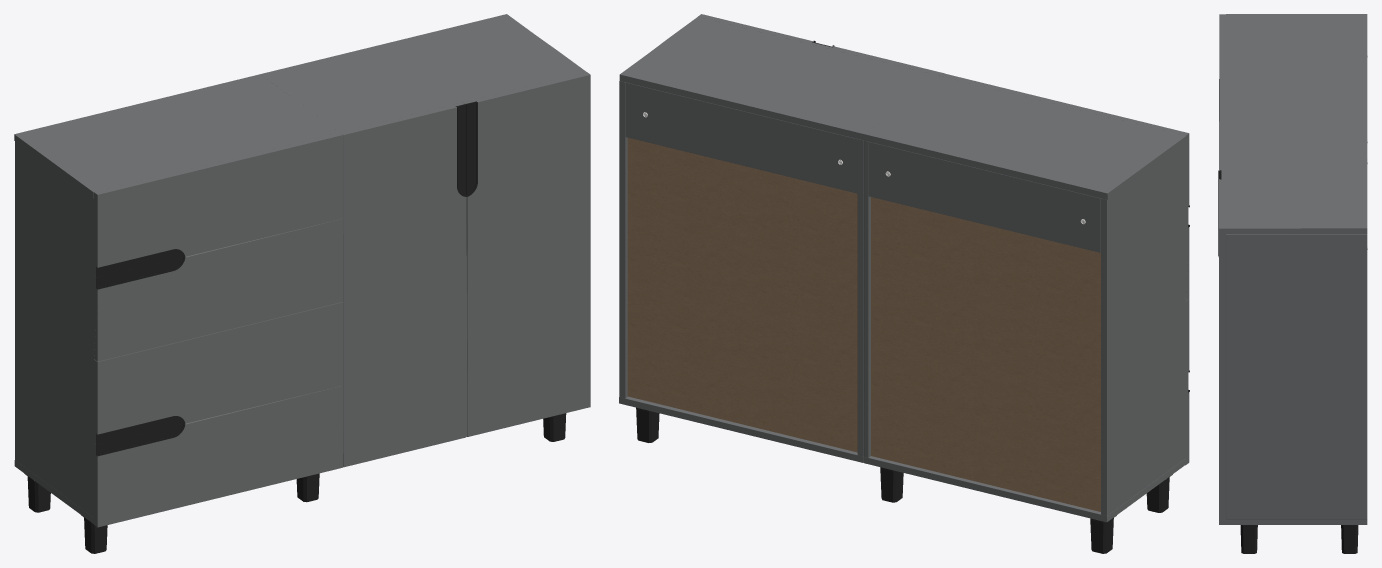
3 renders of one model, left to right at view 1: azimuth 30°, elevation 25°; view 2: azimuth 150°, elevation 25°; view 3: azimuth 270°, elevation 25°, orthographic. The views are drawn at different scales.
Visible parts, largest first — view 1: group_0.127, group_0.001, group_0.004, SketchUp.004, SketchUp.607; view 2: group_0.369, group_0.076, group_0.001, group_0.127, group_0.004, group_0.015, group_0.016, SketchUp.004, group_0.005, SketchUp.607; view 3: group_0.001, group_0.004, SketchUp.607, group_0.127.
Part boxes in pixels (x1,y1,x2,y2): group_0.127: (15, 132, 343, 527); group_0.001: (260, 14, 590, 467); group_0.004: (14, 74, 338, 198); SketchUp.004: (24, 249, 319, 553); SketchUp.607: (455, 101, 566, 441); group_0.369: (627, 137, 857, 452); group_0.076: (871, 197, 1100, 511); group_0.001: (619, 14, 945, 462); group_0.127: (943, 74, 1189, 515); group_0.004: (864, 76, 1185, 199); group_0.015: (868, 142, 1100, 252); group_0.016: (863, 456, 1185, 522); SketchUp.004: (880, 205, 1189, 553); group_0.005: (864, 140, 870, 457); SketchUp.607: (636, 40, 834, 442); group_0.001: (1219, 121, 1367, 524); group_0.004: (1226, 14, 1367, 120); SketchUp.607: (1218, 170, 1358, 553); group_0.127: (1219, 14, 1225, 120).
Size of the model in its own units: 1.4 by 1 by 0.4112.
10 materials, 1 textured.
